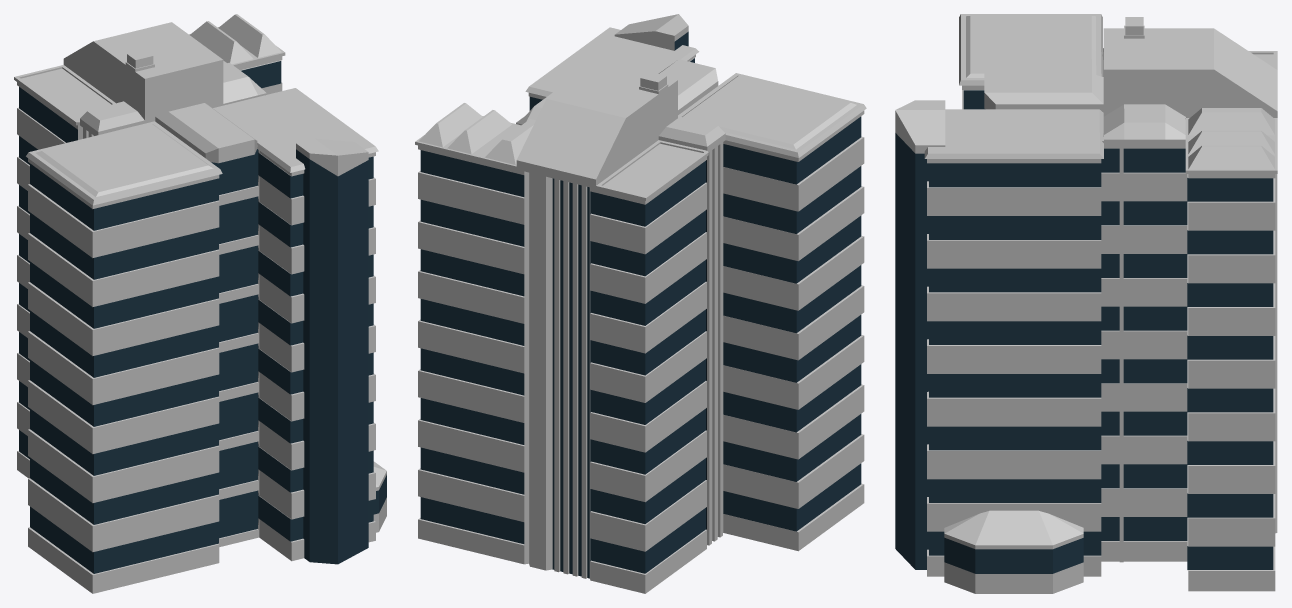
Rendered from boyd orr.obj.
3 renders of one model, left to right at view 1: azimuth 30°, elevation 25°; view 2: azimuth 150°, elevation 25°; view 3: azimuth 270°, elevation 25°, orthographic. The views are drawn at different scales.
Parts seen in each view (by area): view 1: Plane, Plane.001, Plane.002, Plane.003; view 2: Plane, Plane.001, Plane.002; view 3: Plane, Plane.001, Plane.002, Plane.003.
Part boxes in pixels (x1,y1,x2,y2): Plane: (17, 56, 375, 593); Plane.001: (14, 14, 378, 205); Plane.002: (296, 138, 368, 564); Plane.003: (373, 461, 386, 532); Plane: (418, 54, 864, 593); Plane.001: (415, 27, 866, 200); Plane.002: (614, 14, 688, 50); Plane: (927, 54, 1277, 591); Plane.001: (924, 14, 1277, 173); Plane.002: (895, 100, 945, 569); Plane.003: (944, 510, 1083, 593).
Size of the model in its own units: 2.15 by 3.05 by 2.2.
